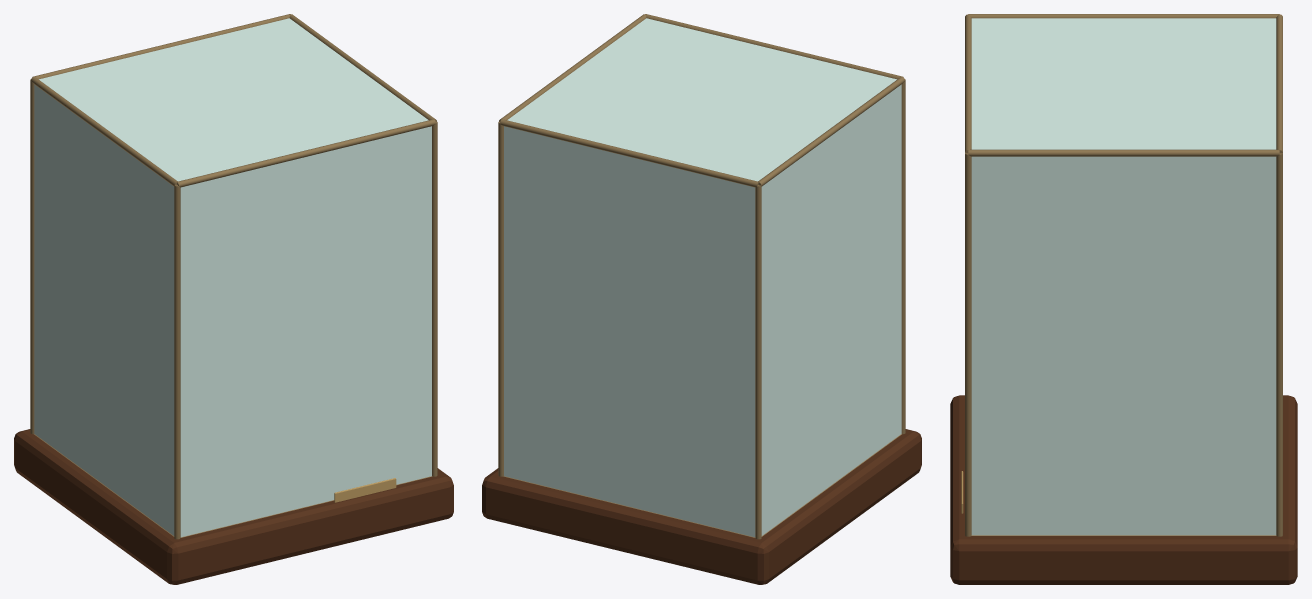
Rendered from listening-terrarium.glb.
3 views of the same model, side by side, from view 1: azimuth 30°, elevation 25°; view 2: azimuth 150°, elevation 25°; view 3: azimuth 270°, elevation 25° (orthographic). The views are drawn at different scales.
Visible parts, largest first — view 1: part::listening-terrarium/front-rear-glass-pane-002, part::listening-terrarium/side-glass-pane-001, part::listening-terrarium/glass-lid-001, part::listening-terrarium/walnut-display-plinth-001, part::listening-terrarium/brass-corner-mullion-002, part::listening-terrarium/brass-corner-mullion-004, part::listening-terrarium/horizontal-frame-004, part::listening-terrarium/brass-corner-mullion-001, part::listening-terrarium/side-frame-003, part::listening-terrarium/horizontal-frame-003, part::listening-terrarium/side-frame-004, part::listening-terrarium/botanical-specimen-label-001; view 2: part::listening-terrarium/front-rear-glass-pane-001, part::listening-terrarium/side-glass-pane-001, part::listening-terrarium/glass-lid-001, part::listening-terrarium/walnut-display-plinth-001, part::listening-terrarium/brass-corner-mullion-001, part::listening-terrarium/brass-corner-mullion-003, part::listening-terrarium/horizontal-frame-003, part::listening-terrarium/brass-corner-mullion-002, part::listening-terrarium/side-frame-003, part::listening-terrarium/horizontal-frame-004, part::listening-terrarium/side-frame-004; view 3: part::listening-terrarium/side-glass-pane-002, part::listening-terrarium/glass-lid-001, part::listening-terrarium/walnut-display-plinth-001, part::listening-terrarium/brass-corner-mullion-003, part::listening-terrarium/brass-corner-mullion-004, part::listening-terrarium/side-frame-004, part::listening-terrarium/side-frame-003, part::listening-terrarium/horizontal-frame-003, part::listening-terrarium/horizontal-frame-004.
Boxes of the visible parts, x1,y1,x2,y2 form: part::listening-terrarium/front-rear-glass-pane-002: [180, 126, 431, 537]; part::listening-terrarium/side-glass-pane-001: [34, 84, 174, 535]; part::listening-terrarium/glass-lid-001: [39, 18, 428, 181]; part::listening-terrarium/walnut-display-plinth-001: [14, 429, 453, 584]; part::listening-terrarium/brass-corner-mullion-002: [174, 185, 180, 539]; part::listening-terrarium/brass-corner-mullion-004: [432, 121, 437, 476]; part::listening-terrarium/horizontal-frame-004: [177, 119, 435, 187]; part::listening-terrarium/brass-corner-mullion-001: [30, 79, 34, 434]; part::listening-terrarium/side-frame-003: [31, 77, 177, 186]; part::listening-terrarium/horizontal-frame-003: [32, 14, 290, 79]; part::listening-terrarium/side-frame-004: [289, 14, 436, 121]; part::listening-terrarium/botanical-specimen-label-001: [334, 478, 396, 502]; part::listening-terrarium/front-rear-glass-pane-001: [504, 126, 755, 537]; part::listening-terrarium/side-glass-pane-001: [761, 84, 901, 535]; part::listening-terrarium/glass-lid-001: [507, 18, 896, 181]; part::listening-terrarium/walnut-display-plinth-001: [482, 429, 921, 584]; part::listening-terrarium/brass-corner-mullion-001: [755, 185, 761, 539]; part::listening-terrarium/brass-corner-mullion-003: [498, 121, 503, 476]; part::listening-terrarium/horizontal-frame-003: [500, 119, 758, 187]; part::listening-terrarium/brass-corner-mullion-002: [901, 79, 905, 434]; part::listening-terrarium/side-frame-003: [758, 77, 904, 186]; part::listening-terrarium/horizontal-frame-004: [645, 14, 903, 79]; part::listening-terrarium/side-frame-004: [499, 14, 646, 121]; part::listening-terrarium/side-glass-pane-002: [971, 156, 1276, 535]; part::listening-terrarium/glass-lid-001: [971, 18, 1276, 149]; part::listening-terrarium/walnut-display-plinth-001: [950, 395, 1297, 584]; part::listening-terrarium/brass-corner-mullion-003: [1276, 153, 1282, 536]; part::listening-terrarium/brass-corner-mullion-004: [965, 153, 971, 536]; part::listening-terrarium/side-frame-004: [968, 149, 1279, 156]; part::listening-terrarium/side-frame-003: [968, 14, 1279, 18]; part::listening-terrarium/horizontal-frame-003: [1276, 14, 1282, 153]; part::listening-terrarium/horizontal-frame-004: [965, 14, 971, 153].
Size of the model in its own units: 0.356 by 0.4735 by 0.346.
